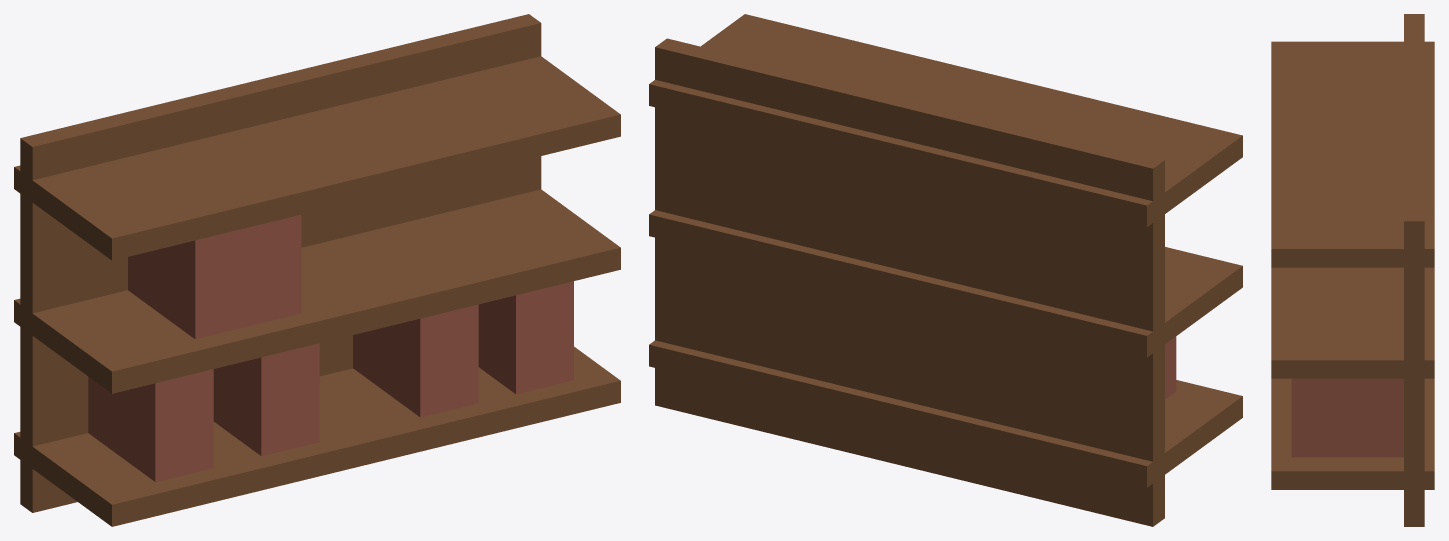
Rendered from Prop_Estante.obj.
3 renders of one model, left to right at view 1: azimuth 30°, elevation 25°; view 2: azimuth 150°, elevation 25°; view 3: azimuth 270°, elevation 25°, orthographic. The views are drawn at different scales.
Parts seen in each view (by area): view 1: madera, libros; view 2: madera; view 3: madera, libros.
Part boxes in pixels (x1,y1,x2,y2): madera: (14, 14, 620, 526); libros: (88, 214, 573, 482); madera: (649, 14, 1242, 526); madera: (1271, 14, 1434, 526); libros: (1291, 378, 1403, 457).
Size of the model in its own units: 0.48 by 0.33 by 0.16.
